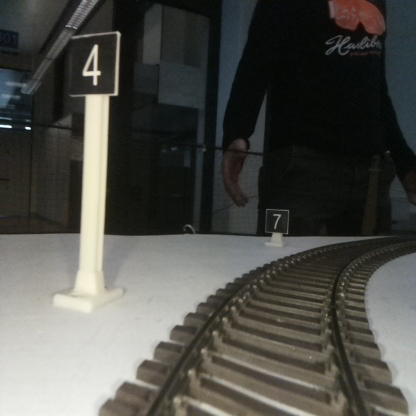black-info-4: (70, 33, 116, 305)
black-stop-7: (265, 210, 288, 244)
